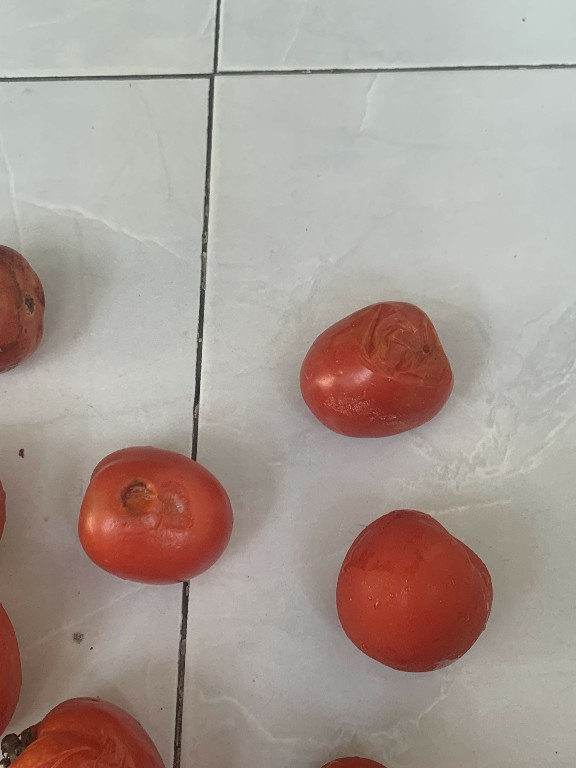NG: (59, 433, 241, 586), (303, 285, 453, 447)
OK: (323, 493, 499, 679)
